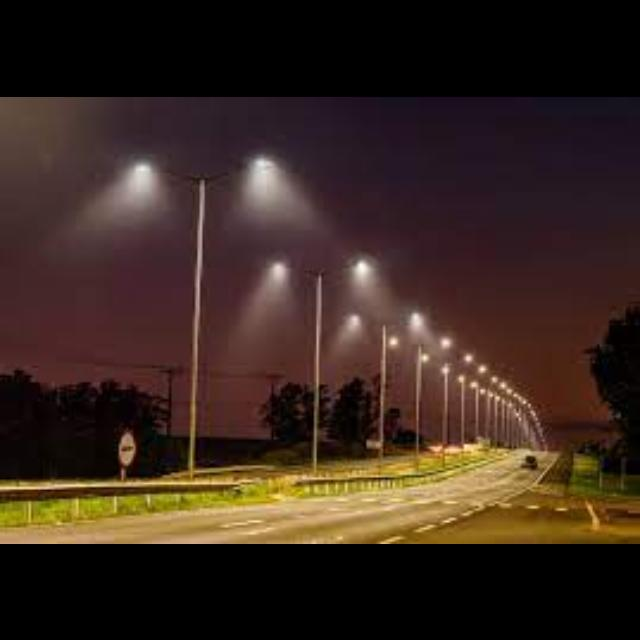Street-Lamp: (118, 128, 272, 482)
